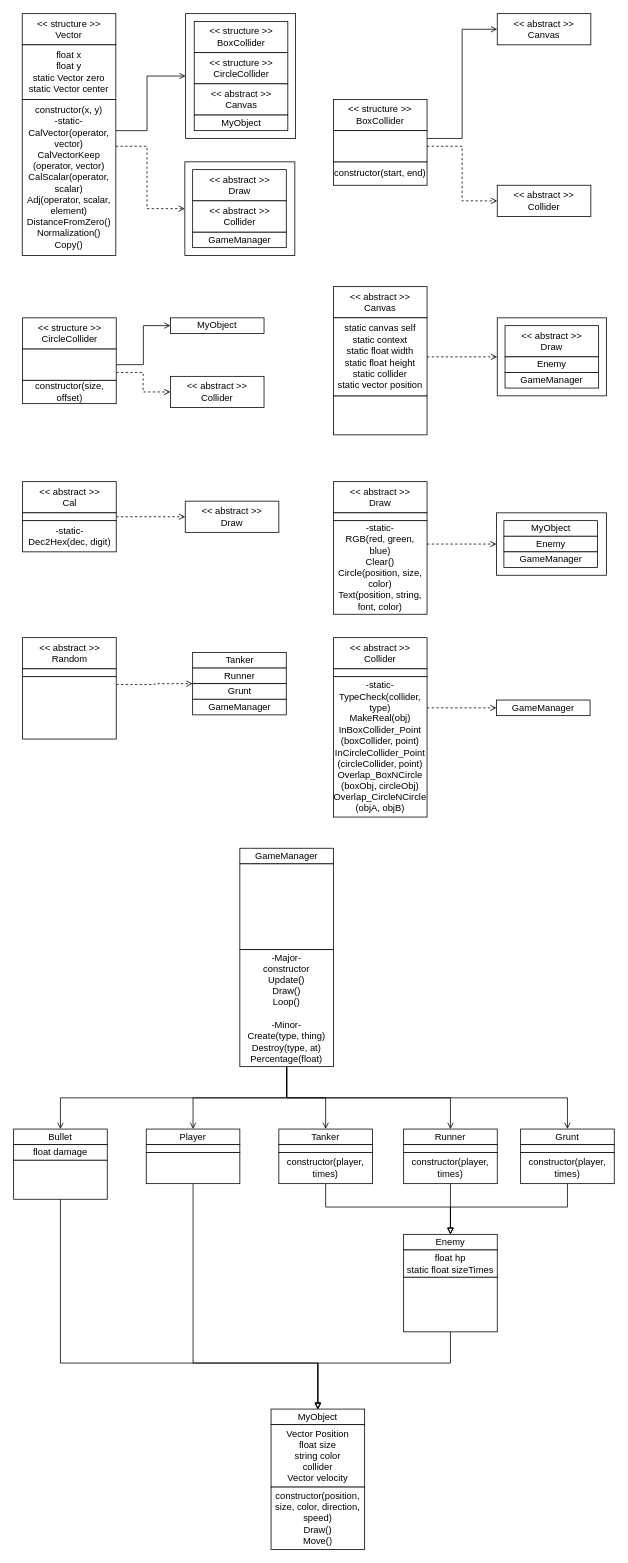
Some shapes in this 628 by 1563 pixel diagram are drawn without their labels. The shapes that lost their labels are listed below. From the top down, each one's centre as x and y in pixels, then its label:
At (x=380, y=146): "Vector start Vector end".
At (x=69, y=364): "float size Vector offset".
At (x=380, y=415): "-static- TextMode(align, baseline)".
At (x=69, y=707): "-static- Int(limit) IntRange(min, max) Float(limit) Bool()".
At (x=286, y=906): "player bullets enemies int score bool gameover float difficult float difficultUp".
At (x=60, y=1179): "constructor(position, size, direction, speed, damage)".
At (x=192, y=1168): "constructor(position, size)".
At (x=450, y=1304): "constructor(hp, speed, player) UpdateSize() DrawHP()".
